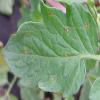Tomato leaf bacterial spot: (1, 0, 98, 96)
